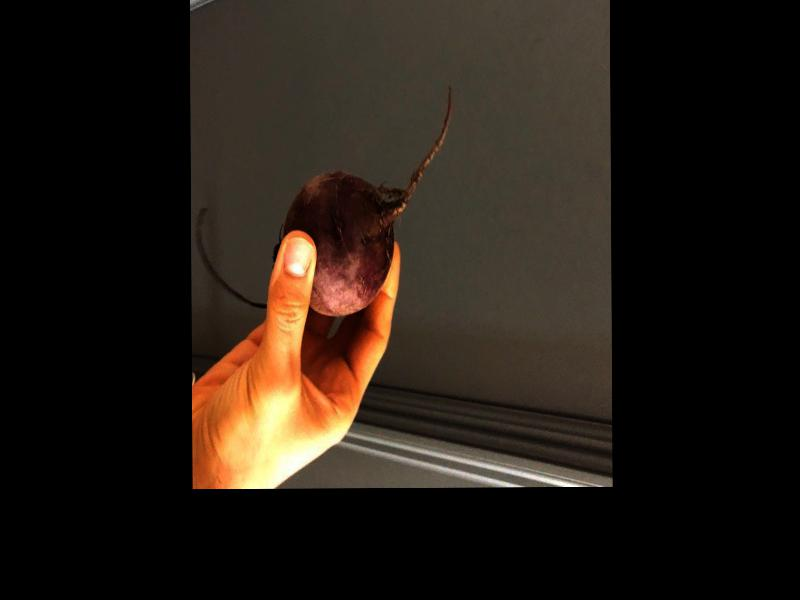Beet: (195, 83, 452, 316)
